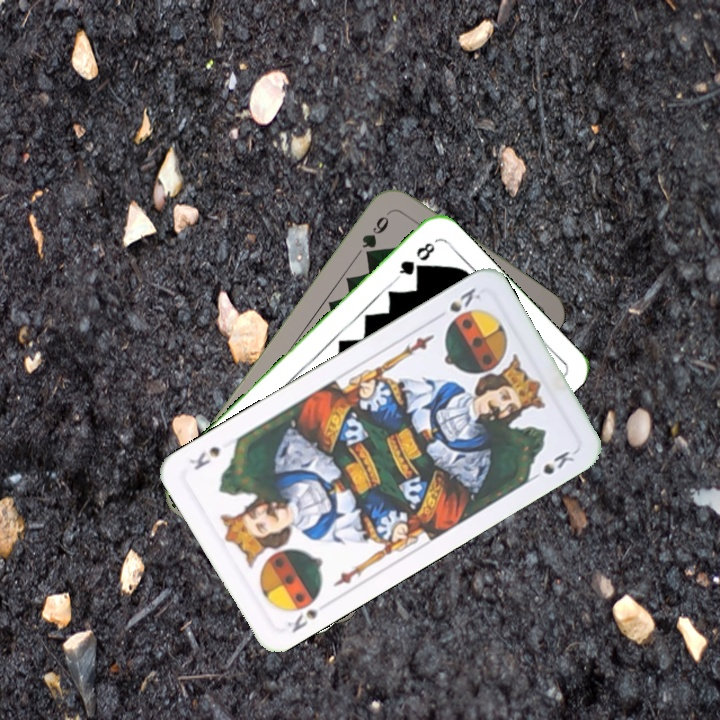G8: (392, 238, 438, 282)
G9: (357, 206, 395, 262)
SK: (445, 283, 484, 315), (282, 605, 321, 635)
